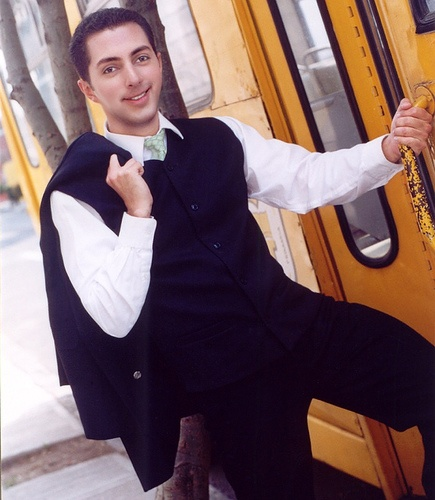head: (65, 8, 164, 125)
person: (28, 1, 435, 500)
